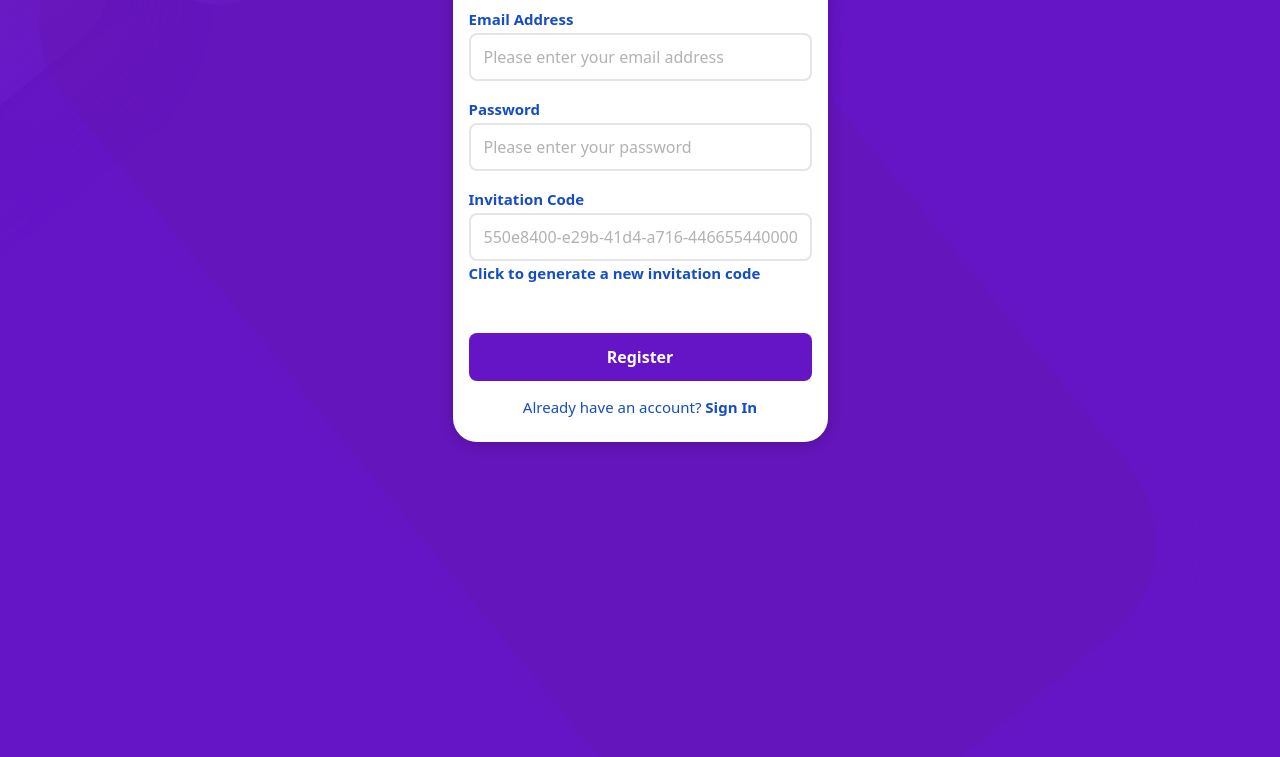
Test: RegisterPage › shows validation errors for empty fields
(page scrolled)
Click the button "Register". click: (640, 357)
box: [468,333,812,381]
(page scrolled)
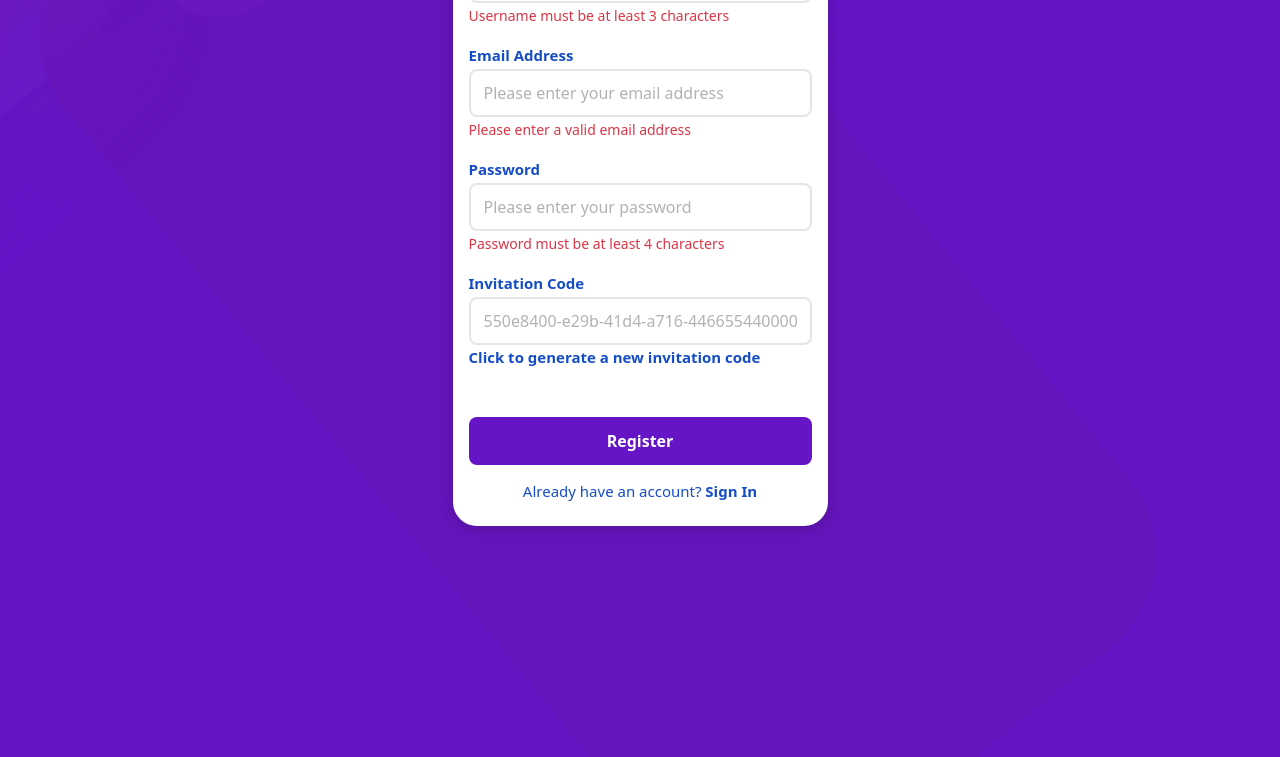
Expected: the text "Username must be at least 3 characters" is shown, [468,6,729,25]
